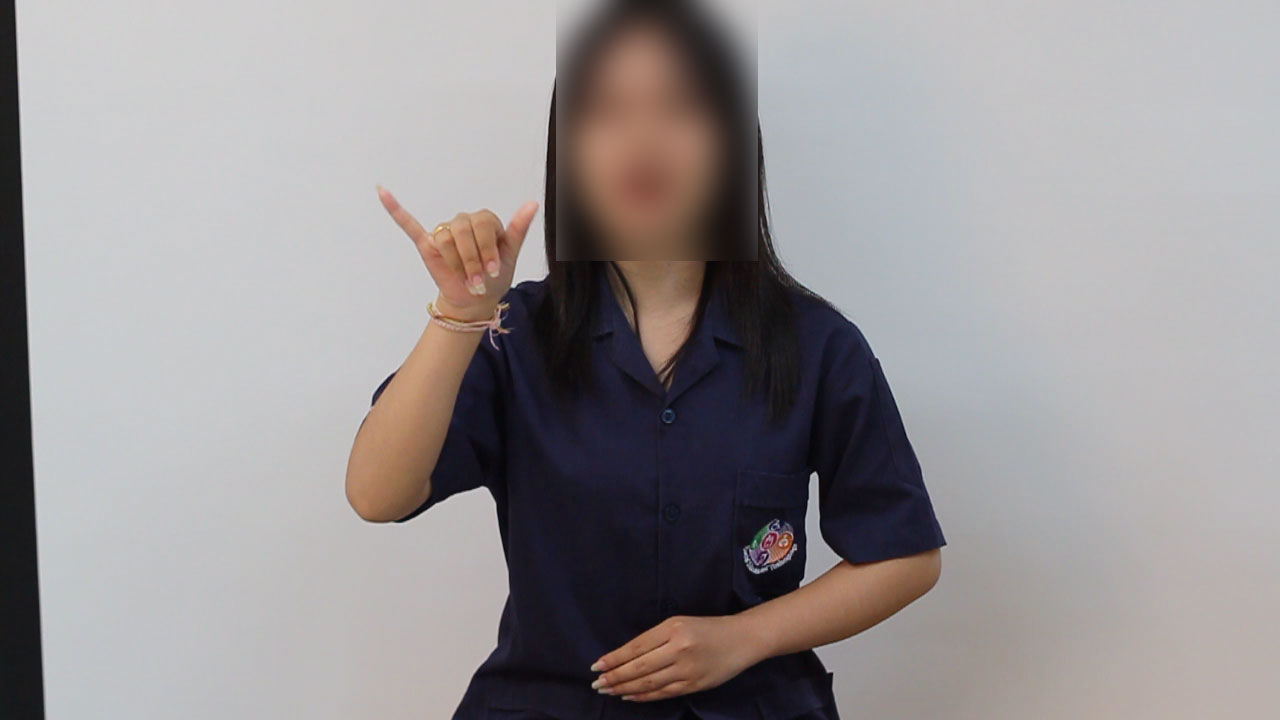yor: (365, 174, 559, 317)
